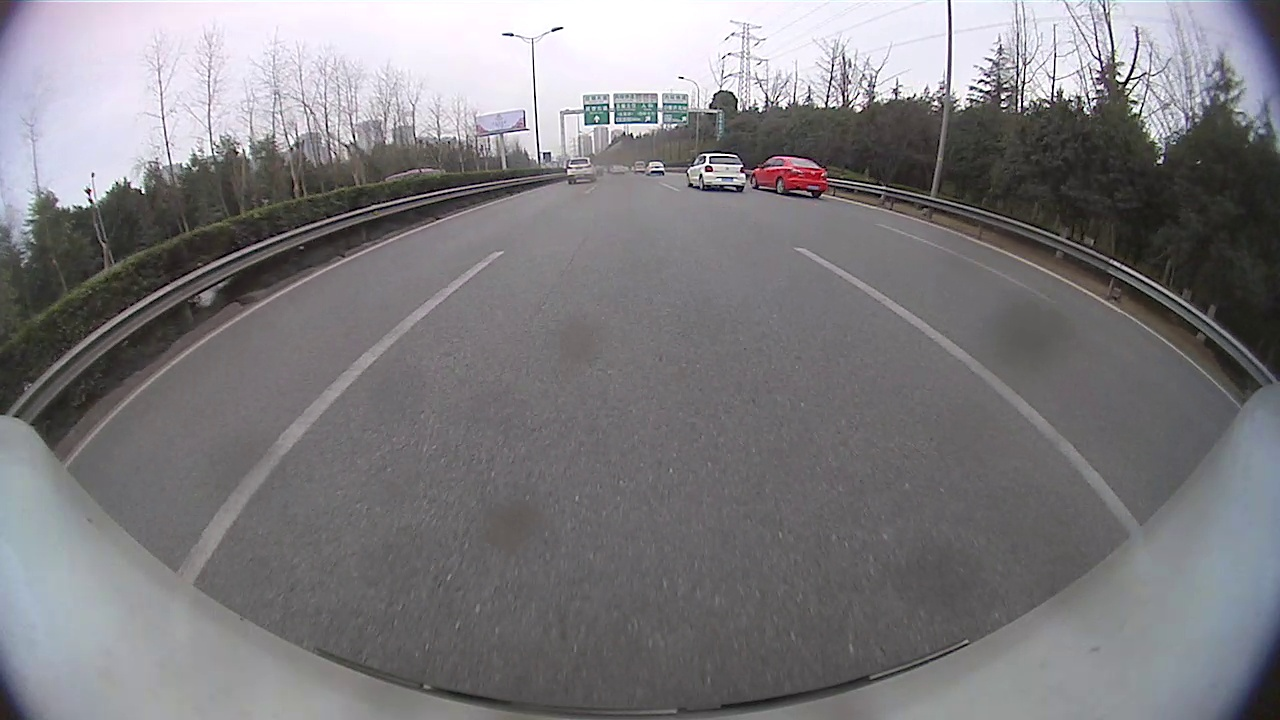car: (749, 153, 829, 198), (685, 151, 747, 191), (566, 157, 598, 184), (644, 160, 665, 176)
front: (750, 176, 759, 191)
rear: (776, 179, 787, 196)
